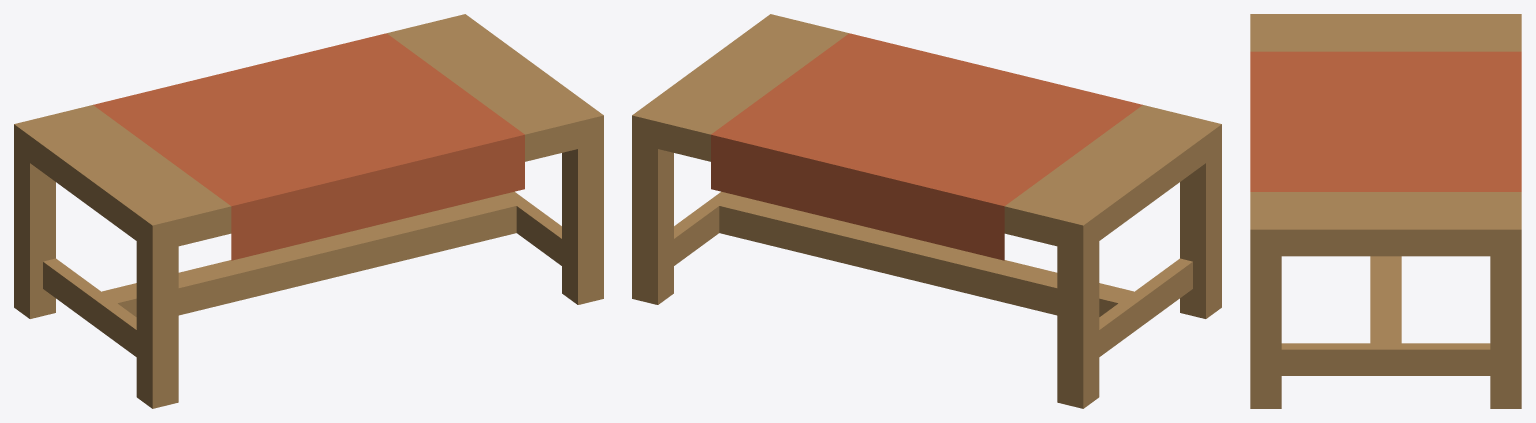
Rendered from tableCloth.glb.
3 views of the same model, side by side, from view 1: azimuth 30°, elevation 25°; view 2: azimuth 150°, elevation 25°; view 3: azimuth 270°, elevation 25° (orthographic). The views are drawn at different scales.
Visible parts, largest first — view 1: tableCloth; view 2: tableCloth; view 3: tableCloth.
Boxes of the visible parts, <box> form: tableCloth: <box>14,14,603,408</box>; tableCloth: <box>632,14,1221,408</box>; tableCloth: <box>1250,14,1521,408</box>.
Bounding box in the file's own units: 1.68 × 0.6535 × 0.8947.
